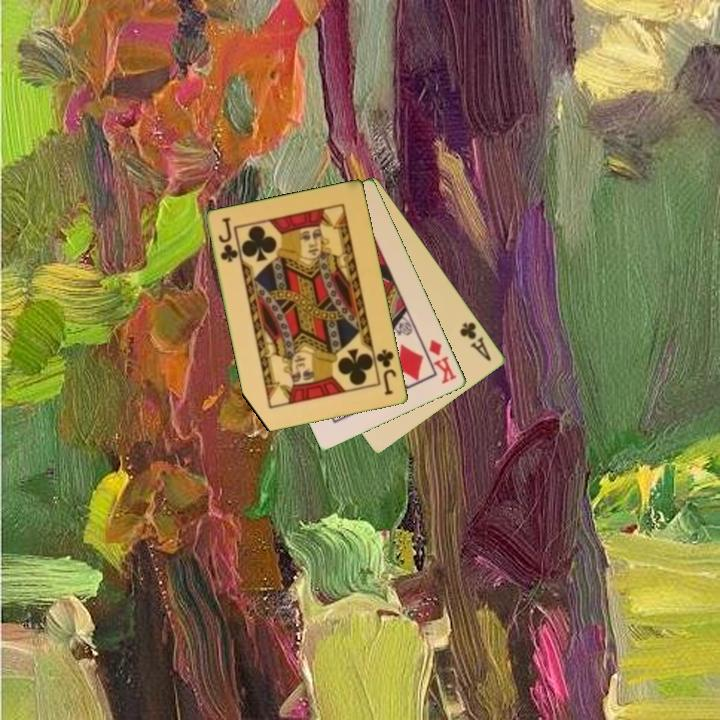Ac: (456, 318, 495, 365)
Jc: (373, 346, 400, 398), (215, 214, 240, 265)
Kd: (426, 336, 460, 387)
